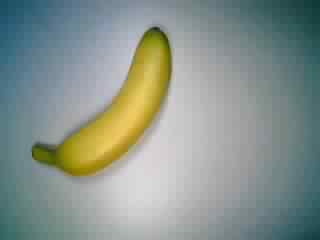banana: (25, 22, 181, 179)
